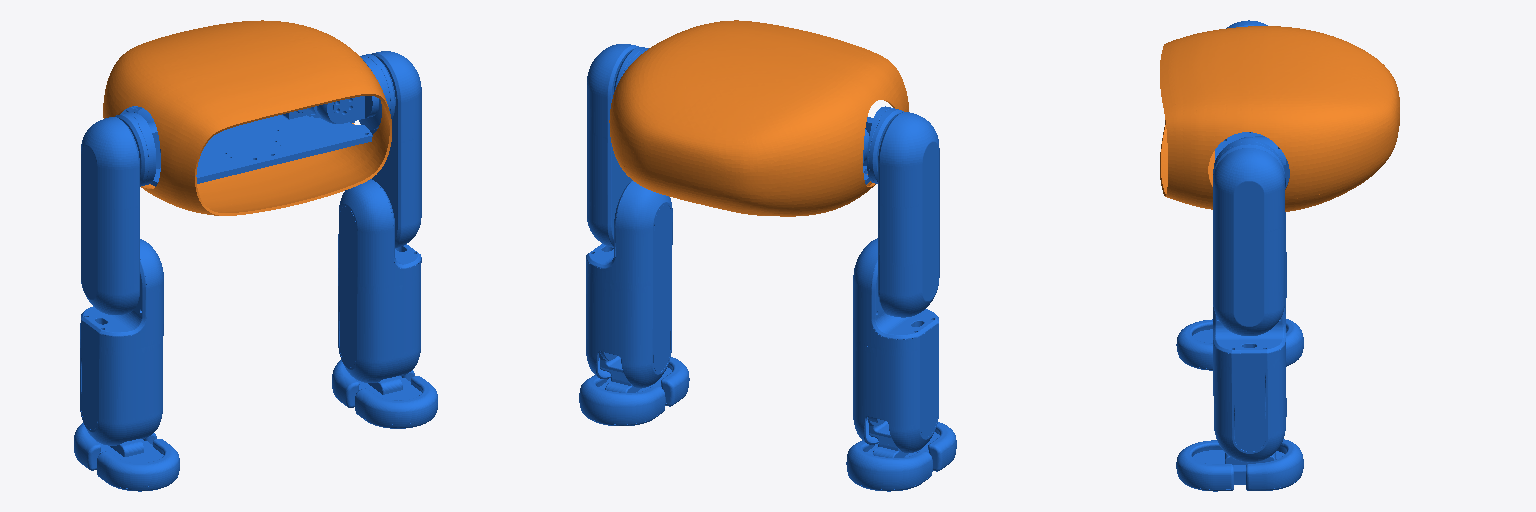
robot.urdf — bipedal_robot:
<?xml version='1.0' encoding='utf-8'?>
<robot name="bipedal_robot">

    <material name="orange">
        <color rgba="0.95 0.55 0.20 1.0"/>
    </material>
    <material name="blue">
        <color rgba="0.20 0.50 0.90 1.0"/>
    </material>

    <!-- Virtual Link-->
    <link name="base_link"/>

    <!-- Links -->
    <link name="body_shell">
        <inertial>
            <origin xyz="0.00033207183830385816 0.018142077893776785 0.023827831840419554" rpy="0.0 0.0 0.0" />
            <mass value="10.033763369242301" />
            <inertia ixx="0.15611637052890423" iyy="0.1730969880686611" izz="0.2245586546741583" ixy="-7.658783630662625e-06" iyz="-0.0019046582764123748" ixz="-3.570709396641354e-05" />
        </inertial>
        <visual name="body_shell_visual">
            <origin xyz="0.0 0.0 0.0" rpy="0.0 0.0 0.0" />
            <geometry>
                <mesh filename="package://bipedal/meshes/body_shell.stl" scale="0.001 0.001 0.001" />
            </geometry>
            <material name="orange"/>
        </visual>
        <collision name="body_shell_collision">
            <origin xyz="0.0 0.0 0.0" rpy="0.0 0.0 0.0" />
            <geometry>
                <mesh filename="package://bipedal/meshes/body_shell.stl" scale="0.001 0.001 0.001" />
            </geometry>
        </collision>
    </link>
    <link name="left_foot">
        <inertial>
            <origin xyz="-0.0819916820768551 0.01141894020030132 -0.02326275966356384" rpy="-3.3881317890172006e-21 -0.0 2.168404344971009e-19" />
            <mass value="5.740349730733042" />
            <inertia ixx="0.018444410331753883" iyy="0.008076334834834196" izz="0.016507667762878944" ixy="0.0008738300083943462" iyz="4.127268336880879e-05" ixz="-0.0001909049604645307" />
        </inertial>
        <visual name="left_foot_visual">
            <origin xyz="0.36326438017108087 -0.02902432433013756 -0.2347217650604735" rpy="0.009926219731574993 -1.5620696808117032 3.139896470601022" />
            <geometry>
                <mesh filename="package://bipedal/meshes/left_foot.stl" scale="0.001 0.001 0.001" />
            </geometry>
            <material name="blue"/>
        </visual>
        <collision name="left_foot_collision">
            <origin xyz="0.36326438017108087 -0.02902432433013756 -0.2347217650604735" rpy="0.009926219731574993 -1.5620696808117032 3.139896470601022" />
            <geometry>
                <mesh filename="package://bipedal/meshes/left_foot.stl" scale="0.001 0.001 0.001" />
            </geometry>
        </collision>
    </link>
    <link name="right_foot">
        <inertial>
            <origin xyz="0.081991624815171 -0.011418980490479234 0.023262750025891066" rpy="0.0 -0.0 2.168404344971009e-19" />
            <mass value="5.740375032006935" />
            <inertia ixx="0.01844448950387695" iyy="0.008076351147330506" izz="0.01650773447335254" ixy="0.0008738240560570885" iyz="4.1273561502560766e-05" ixz="-0.0001909052717197224" />
        </inertial>
        <visual name="right_foot_visual">
            <origin xyz="-0.36326438550542733 0.029024324216390066 0.23472175836191575" rpy="-3.131666433858324 -1.5620696808117012 3.1398964706010224" />
            <geometry>
                <mesh filename="package://bipedal/meshes/right_foot.stl" scale="0.001 0.001 0.001" />
            </geometry>
            <material name="blue"/>
        </visual>
        <collision name="right_foot_collision">
            <origin xyz="-0.36326438550542733 0.029024324216390066 0.23472175836191575" rpy="-3.131666433858324 -1.5620696808117012 3.1398964706010224" />
            <geometry>
                <mesh filename="package://bipedal/meshes/right_foot.stl" scale="0.001 0.001 0.001" />
            </geometry>
        </collision>
    </link>
    <link name="left_bottom_leg">
        <inertial>
            <origin xyz="-0.10332849366541012 -0.00046739997220666133 0.004042119862935074" rpy="3.388131789017202e-21 -2.1684043449710093e-19 0.0" />
            <mass value="7.052600997562334" />
            <inertia ixx="0.012968459786086366" iyy="0.0380108756278655" izz="0.03860479820041426" ixy="-0.0004790924486793623" iyz="-1.872232219438408e-05" ixz="-0.0026017533694438558" />
        </inertial>
        <visual name="left_bottom_leg_visual">
            <origin xyz="0.1730281821989333 0.03272288151361353 0.2126587076029749" rpy="3.1398906645540046 1.5602651020150287 3.141592653589793" />
            <geometry>
                <mesh filename="package://bipedal/meshes/left_bottom_leg.stl" scale="0.001 0.001 0.001" />
            </geometry>
            <material name="blue"/>
        </visual>
        <collision name="left_bottom_leg_collision">
            <origin xyz="0.1730281821989333 0.03272288151361353 0.2126587076029749" rpy="3.1398906645540046 1.5602651020150287 3.141592653589793" />
            <geometry>
                <mesh filename="package://bipedal/meshes/left_bottom_leg.stl" scale="0.001 0.001 0.001" />
            </geometry>
        </collision>
    </link>
    <link name="right_bottom_leg">
        <inertial>
            <origin xyz="0.10332793266876664 -0.00046728028746515274 0.0040421511413784115" rpy="0.0 -0.0 0.0" />
            <mass value="7.052573600636437" />
            <inertia ixx="0.012968340984398585" iyy="0.03801074515169537" izz="0.038604467673001644" ixy="0.0004789927801170941" iyz="-1.872275330981219e-05" ixz="0.0026017544071117796" />
        </inertial>
        <visual name="right_bottom_leg_visual">
            <origin xyz="-0.1730281775927535 0.03272288134500559 0.2126587009692301" rpy="3.1398906645540277 -1.5602651020150264 3.1415926535897913" />
            <geometry>
                <mesh filename="package://bipedal/meshes/right_bottom_leg.stl" scale="0.001 0.001 0.001" />
            </geometry>
            <material name="blue"/>
        </visual>
        <collision name="right_bottom_leg_collision">
            <origin xyz="-0.1730281775927535 0.03272288134500559 0.2126587009692301" rpy="3.1398906645540277 -1.5602651020150264 3.1415926535897913" />
            <geometry>
                <mesh filename="package://bipedal/meshes/right_bottom_leg.stl" scale="0.001 0.001 0.001" />
            </geometry>
        </collision>
    </link>
    <link name="right_top_leg">
        <inertial>
            <origin xyz="-0.09577093573785071 -0.000106738080475135 0.02881180555202825" rpy="0.0 -0.0 0.0" />
            <mass value="11.689833613915876" />
            <inertia ixx="0.011807300528615672" iyy="0.07832135366786441" izz="0.08454639536411783" ixy="-2.723072085086438e-06" iyz="8.804731853964181e-07" ixz="0.0008372890516810994" />
        </inertial>
        <visual name="right_top_leg_visual">
            <origin xyz="-0.025603872136559683 0.03208013359139863 -0.21001865942262948" rpy="2.220446049250305e-16 1.5707963267948952 0" />
            <geometry>
                <mesh filename="package://bipedal/meshes/right_top_leg.stl" scale="0.001 0.001 0.001" />
            </geometry>
            <material name="blue"/>
        </visual>
        <collision name="right_top_leg_collision">
            <origin xyz="-0.025603872136559683 0.03208013359139863 -0.21001865942262948" rpy="2.220446049250305e-16 1.5707963267948952 0" />
            <geometry>
                <mesh filename="package://bipedal/meshes/right_top_leg.stl" scale="0.001 0.001 0.001" />
            </geometry>
        </collision>
    </link>
    <link name="left_top_leg">
        <inertial>
            <origin xyz="-0.0958060357992786 -0.00010674503930890201 -0.02882229495770055" rpy="0.0 -0.0 0.0" />
            <mass value="11.685909098839788" />
            <inertia ixx="0.011802434681935092" iyy="0.07828040626231414" izz="0.08450705443546892" ixy="-2.804316250884144e-06" iyz="-8.449092869452573e-07" ixz="-0.0008245862513831015" />
        </inertial>
        <visual name="left_top_leg_visual">
            <origin xyz="-0.025603872136559507 0.03208013012296634 0.2100186594226289" rpy="2.220446049250305e-16 1.5707963267948952 0" />
            <geometry>
                <mesh filename="package://bipedal/meshes/left_top_leg.stl" scale="0.001 0.001 0.001" />
            </geometry>
            <material name="blue"/>
        </visual>
        <collision name="left_top_leg_collision">
            <origin xyz="-0.025603872136559507 0.03208013012296634 0.2100186594226289" rpy="2.220446049250305e-16 1.5707963267948952 0" />
            <geometry>
                <mesh filename="package://bipedal/meshes/left_top_leg.stl" scale="0.001 0.001 0.001" />
            </geometry>
        </collision>
    </link>
    <link name="left_shoulder">
        <inertial>
            <origin xyz="0.036559558168600306 0.00043809134249645165 0.013319375450702298" rpy="0.0 -0.0 0.0" />
            <mass value="2.1294751815837487" />
            <inertia ixx="0.002107453050371467" iyy="0.002373141332602538" izz="0.002755200907029201" ixy="-1.98140797265326e-05" iyz="-4.123661216271729e-06" ixz="4.712358334390925e-05" />
        </inertial>
        <visual name="left_shoulder_visual">
            <origin xyz="-0.14430367649820075 -0.025595019953868113 -0.02387197653156771" rpy="-1.5707963267948966 -0.0 0.0" />
            <geometry>
                <mesh filename="package://bipedal/meshes/left_shoulder.stl" scale="0.001 0.001 0.001" />
            </geometry>
            <material name="blue"/>
        </visual>
        <collision name="left_shoulder_collision">
            <origin xyz="-0.14430367649820075 -0.025595019953868113 -0.02387197653156771" rpy="-1.5707963267948966 -0.0 0.0" />
            <geometry>
                <mesh filename="package://bipedal/meshes/left_shoulder.stl" scale="0.001 0.001 0.001" />
            </geometry>
        </collision>
    </link>
    <link name="right_shoulder">
        <inertial>
            <origin xyz="-0.03660580711526356 0.00043856799248129355 0.013087133777679219" rpy="0.0 -0.0 0.0" />
            <mass value="2.126784728505797" />
            <inertia ixx="0.002106666458485536" iyy="0.0023687545011304156" izz="0.0027509655598898924" ixy="1.9774042541151327e-05" iyz="-4.105316538760737e-06" ixz="-4.8423103186694134e-05" />
        </inertial>
        <visual name="right_shoulder_visual">
            <origin xyz="0.14430367649820136 -0.02559501995386829 -0.024120910000000002" rpy="-1.5707963267948966 -0.0 0.0" />
            <geometry>
                <mesh filename="package://bipedal/meshes/right_shoulder.stl" scale="0.001 0.001 0.001" />
            </geometry>
            <material name="blue"/>
        </visual>
        <collision name="right_shoulder_collision">
            <origin xyz="0.14430367649820136 -0.02559501995386829 -0.024120910000000002" rpy="-1.5707963267948966 -0.0 0.0" />
            <geometry>
                <mesh filename="package://bipedal/meshes/right_shoulder.stl" scale="0.001 0.001 0.001" />
            </geometry>
        </collision>
    </link>
    <link name="left_mt_connector">
        <inertial>
            <origin xyz="0.08610779131794974 -0.04584009968353152 0.016128685860860876" rpy="0.0 -0.0 0.0" />
            <mass value="2.6231528039810263" />
            <inertia ixx="0.005786666207460548" iyy="0.00832637584934837" izz="0.011200097702211548" ixy="-0.0009525613677127313" iyz="-0.0007710949987066247" ixz="-0.0011674541928651458" />
        </inertial>
        <visual name="left_mt_connector_visual">
            <origin xyz="-0.01500632 -0.04686796 0.02582585" rpy="0.0 -0.0 0.0" />
            <geometry>
                <mesh filename="package://bipedal/meshes/left_mt_connector.stl" scale="0.001 0.001 0.001" />
            </geometry>
            <material name="blue"/>
        </visual>
        <collision name="left_mt_connector_collision">
            <origin xyz="-0.01500632 -0.04686796 0.02582585" rpy="0.0 -0.0 0.0" />
            <geometry>
                <mesh filename="package://bipedal/meshes/left_mt_connector.stl" scale="0.001 0.001 0.001" />
            </geometry>
        </collision>
    </link>
    <link name="right_mt_connector">
        <inertial>
            <origin xyz="-0.08610778808199708 -0.045840101113946555 0.016128686240669952" rpy="0.0 -0.0 0.0" />
            <mass value="2.6231526923538815" />
            <inertia ixx="0.005786666072420403" iyy="0.008326375194875325" izz="0.011200096930645505" ixy="0.0009525610823738232" iyz="-0.000771095032239181" ixz="0.0011674542686023217" />
        </inertial>
        <visual name="right_mt_connector_visual">
            <origin xyz="0.01500632 -0.04686796 0.02582585" rpy="0.0 -0.0 0.0" />
            <geometry>
                <mesh filename="package://bipedal/meshes/right_mt_connector.stl" scale="0.001 0.001 0.001" />
            </geometry>
            <material name="blue"/>
        </visual>
        <collision name="right_mt_connector_collision">
            <origin xyz="0.01500632 -0.04686796 0.02582585" rpy="0.0 -0.0 0.0" />
            <geometry>
                <mesh filename="package://bipedal/meshes/right_mt_connector.stl" scale="0.001 0.001 0.001" />
            </geometry>
        </collision>
    </link>
    <link name="right_motor">
        <inertial>
            <origin xyz="-2.9107464882827115e-10 -2.9106277299462137e-09 -0.02550000439880919" rpy="0.0 -0.0 0.0" />
            <mass value="1.5756109800592792" />
            <inertia ixx="0.0008349695281650148" iyy="0.0008349695281650443" izz="0.0009869116964743713" ixy="-7.847455805795258e-35" iyz="-5.361330934430941e-19" ixz="1.6058949515502472e-18" />
        </inertial>
        <visual name="right_motor_visual">
            <origin xyz="0.14422904 0.0252236 -0.026879089999999998" rpy="1.5707963267948968 -0.0 0.0" />
            <geometry>
                <mesh filename="package://bipedal/meshes/right_motor.stl" scale="0.001 0.001 0.001" />
            </geometry>
            <material name="blue"/>
        </visual>
        <collision name="right_motor_collision">
            <origin xyz="0.14422904 0.0252236 -0.026879089999999998" rpy="1.5707963267948968 -0.0 0.0" />
            <geometry>
                <mesh filename="package://bipedal/meshes/right_motor.stl" scale="0.001 0.001 0.001" />
            </geometry>
        </collision>
    </link>
    <link name="left_motor">
        <inertial>
            <origin xyz="2.9107468435540797e-10 2.9106277255053213e-09 0.025500004398809187" rpy="0.0 -0.0 0.0" />
            <mass value="1.575610980059279" />
            <inertia ixx="0.0008349695281650155" iyy="0.0008349695281650374" izz="0.0009869116964743574" ixy="5.41203848675535e-35" iyz="-8.889969729282312e-20" ixz="-1.0504003710392386e-18" />
        </inertial>
        <visual name="left_motor_visual">
            <origin xyz="-0.14422904 -0.0252236 0.026879089999999998" rpy="-1.5707963267948966 -0.0 0.0" />
            <geometry>
                <mesh filename="package://bipedal/meshes/left_motor.stl" scale="0.001 0.001 0.001" />
            </geometry>
            <material name="blue"/>
        </visual>
        <collision name="left_motor_collision">
            <origin xyz="-0.14422904 -0.0252236 0.026879089999999998" rpy="-1.5707963267948966 -0.0 0.0" />
            <geometry>
                <mesh filename="package://bipedal/meshes/left_motor.stl" scale="0.001 0.001 0.001" />
            </geometry>
        </collision>
    </link>

    <!-- Joints -->
    <joint name="base_joint" type="fixed">
        <parent link="base_link"/>
        <child link="body_shell"/>
        <origin xyz="0 0 0.5" rpy="0 0 0"/>
    </joint>

    <joint name="body_shell_left_mt_connector---body_shell" type="fixed">
        <origin xyz="0.01500632 0.04686796 -0.02582585" rpy="0.0 -0.0 0.0" />
        <parent link="body_shell" />
        <child link="left_mt_connector" />
    </joint>
    <joint name="body_shell_right_mt_connector--body_shell" type="fixed">
        <origin xyz="-0.01500632 0.04686796 -0.02582585" rpy="0.0 -0.0 0.0" />
        <parent link="body_shell" />
        <child link="right_mt_connector" />
    </joint>
    <joint name="right_mt_connector_right_motor--right_mt_connector" type="fixed">
        <origin xyz="-0.12922272 -0.019988870000000002 0.051049449999999996" rpy="-1.5707963267948968 -0.0 0.0" />
        <parent link="right_mt_connector" />
        <child link="right_motor" />
    </joint>
    <joint name="left_mt_connector_left_motor-left_mt_connector" type="fixed">
        <origin xyz="0.12922272 -0.019988870000000002 0.051049449999999996" rpy="1.5707963267948966 -0.0 0.0" />
        <parent link="left_mt_connector" />
        <child link="left_motor" />
    </joint>
    <joint name="right_motor_right_shoulder-right_motor" type="continuous">
        <origin xyz="0.0 0.0 -0.051" rpy="-3.141592653589793 -0.0 0.0" />
        <parent link="right_motor" />
        <child link="right_shoulder" />
        <axis xyz="0.0 0.0 -1.0" />
    </joint>
    <joint name="left_motor_left_shoulder--left_motor" type="continuous">
        <origin xyz="0.0 0.0 0.051" rpy="2.719618493661524e-16 -0.0 0.0" />
        <parent link="left_motor" />
        <child link="left_shoulder" />
        <axis xyz="0.0 0.0 -1.0" />
    </joint>
    <joint name="right_shoulder_right_top_leg-right_shoulder" type="continuous">
        <origin xyz="-0.06577861 4.440892098500626e-18 0.008051069999999995" rpy="-1.5707963267948952 2.2204460492503126e-16 1.5707963267948966" />
        <parent link="right_shoulder" />
        <child link="right_top_leg" />
        <axis xyz="0.0 0.0 -1.0" />
    </joint>
    <joint name="right_top_leg_right_bottom_leg--right_top_leg" type="continuous">
        <origin xyz="-0.19611023 -0.00026018999999999793 0.005488629999999973" rpy="-3.141592653589792 -0.0018046522783323076 3.1316605498963703" />
        <parent link="right_top_leg" />
        <child link="right_bottom_leg" />
        <axis xyz="0.0 0.0 -1.0" />
    </joint>
    <joint name="left_top_leg_left_bottom_leg-left_top_leg" type="continuous">
        <origin xyz="-0.19649051 -0.0003520399999999979 -0.005477619999999988" rpy="1.2839670607909703e-15 -0.00180465227833185 -0.009932103693549799" />
        <parent link="left_top_leg" />
        <child link="left_bottom_leg" />
        <axis xyz="0.0 0.0 -1.0" />
    </joint>
    <joint name="right_bottom_leg_right_foot-right_bottom_leg" type="continuous">
        <origin xyz="0.19054587634099457 0.00017918159310244874 -0.022314647473610415" rpy="1.4851960194663e-05 0.008719951551888941 -0.008229459783592878" />
        <parent link="right_bottom_leg" />
        <child link="right_foot" />
        <axis xyz="0.0 0.0 1.0" />
    </joint>
    <joint name="left_bottom_leg_left_foot-left_bottom_leg" type="continuous">
        <origin xyz="-0.190545866341504 0.00017918169239766524 -0.022314647491656105" rpy="-3.1415778016295985 -0.008719951551889402 0.00822945978371986" />
        <parent link="left_bottom_leg" />
        <child link="left_foot" />
        <axis xyz="0.0 0.0 -1.0" />
    </joint>
    <joint name="left_shoulder_left_top_leg-left_shoulder" type="continuous">
        <origin xyz="0.06577861 4.440892098500626e-18 0.008299999999999997" rpy="-1.570796326794898 2.2204460492503126e-16 1.5707963267948966" />
        <parent link="left_shoulder" />
        <child link="left_top_leg" />
        <axis xyz="0.0 0.0 1.0" />
    </joint>
</robot>

--- What the picture shows (computed from the rendered views, not written in the file) ---
3 views of the same robot in one strip: view 1: azimuth 30°, elevation 25°; view 2: azimuth 150°, elevation 25°; view 3: azimuth 270°, elevation 25° (orthographic).
Robot: bipedal_robot — 14 links, 13 joints (8 continuous, 5 fixed); root link base_link; default pose: all joints at 0.
Visible links, largest first — view 1: body_shell, left_bottom_leg, right_bottom_leg, right_top_leg, left_top_leg, left_mt_connector, left_foot, right_foot, right_mt_connector, left_shoulder, right_shoulder; view 2: body_shell, left_bottom_leg, right_bottom_leg, right_top_leg, left_top_leg, left_foot, right_foot, right_shoulder; view 3: body_shell, left_top_leg, left_bottom_leg, left_foot, right_foot, left_shoulder.
Link boxes in pixels (x1=…): body_shell: x1=103, y1=20, x2=391, y2=215; left_bottom_leg: x1=338, y1=179, x2=421, y2=382; right_bottom_leg: x1=80, y1=239, x2=163, y2=445; right_top_leg: x1=81, y1=117, x2=139, y2=314; left_top_leg: x1=370, y1=51, x2=421, y2=247; left_mt_connector: x1=227, y1=109, x2=372, y2=165; left_foot: x1=332, y1=360, x2=437, y2=428; right_foot: x1=74, y1=423, x2=179, y2=491; right_mt_connector: x1=121, y1=106, x2=268, y2=186; left_shoulder: x1=317, y1=54, x2=395, y2=129; right_shoulder: x1=115, y1=112, x2=160, y2=186; body_shell: x1=609, y1=20, x2=908, y2=216; left_bottom_leg: x1=586, y1=180, x2=672, y2=387; right_bottom_leg: x1=853, y1=238, x2=938, y2=452; right_top_leg: x1=878, y1=112, x2=939, y2=317; left_top_leg: x1=587, y1=44, x2=638, y2=247; left_foot: x1=579, y1=353, x2=689, y2=425; right_foot: x1=846, y1=419, x2=956, y2=491; right_shoulder: x1=863, y1=106, x2=903, y2=183; body_shell: x1=1160, y1=26, x2=1399, y2=211; left_top_leg: x1=1213, y1=148, x2=1284, y2=335; left_bottom_leg: x1=1213, y1=306, x2=1286, y2=462; left_foot: x1=1176, y1=439, x2=1303, y2=491; right_foot: x1=1176, y1=319, x2=1303, y2=370; left_shoulder: x1=1213, y1=137, x2=1284, y2=174.
Size in the robot's own frame: 0.5461 by 0.3631 by 0.5927 metres.
13 mesh visuals loaded from 13 distinct referenced files (13 binary STL).